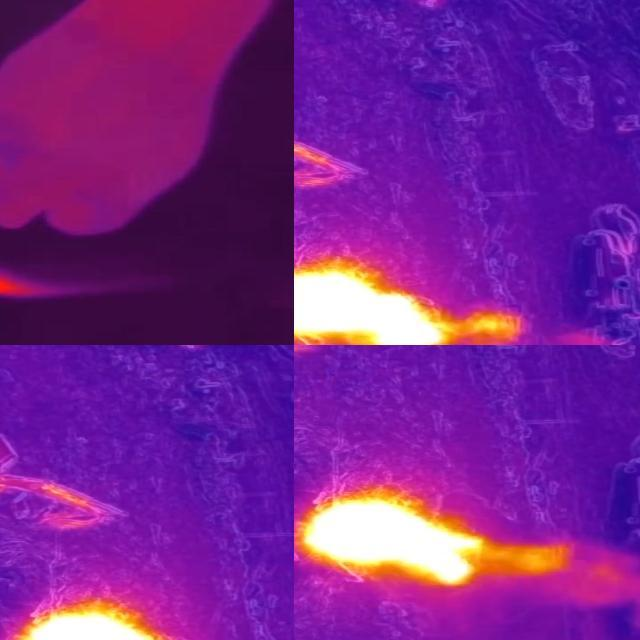fire: (301, 495, 497, 591), (295, 265, 457, 346), (15, 608, 191, 640), (1, 232, 49, 303)
